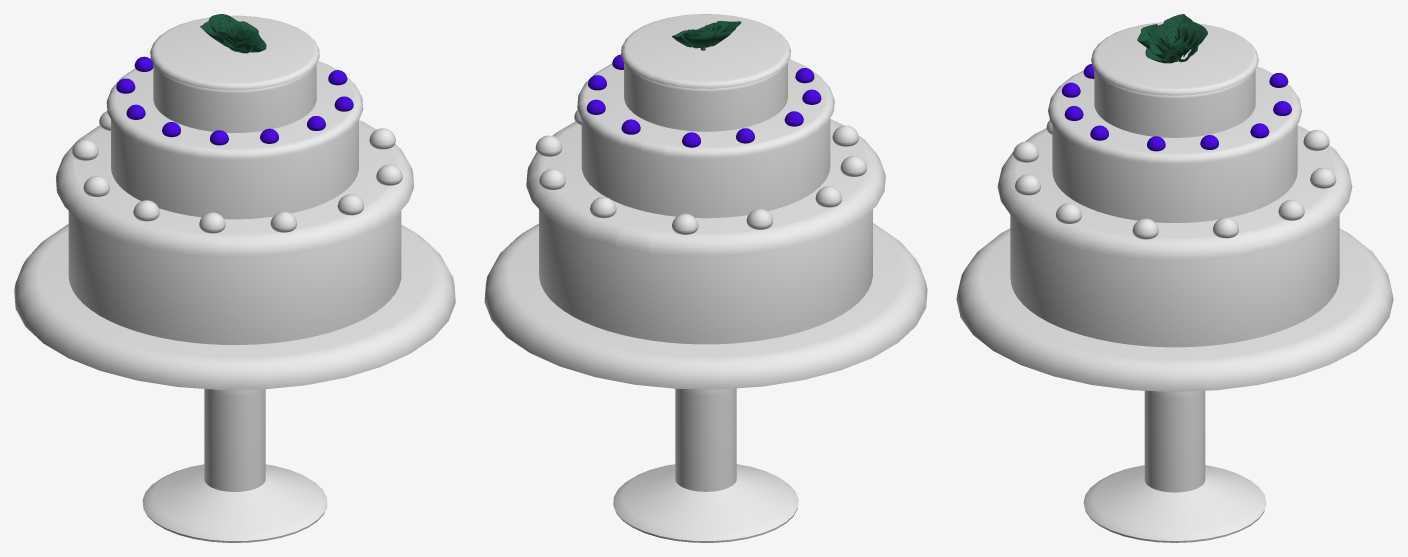
The model's file is tarta.fbx.
The picture shows the model from 3 angles, left to right: view 1: azimuth 30°, elevation 25°; view 2: azimuth 150°, elevation 25°; view 3: azimuth 270°, elevation 25°; orthographic projection.
Visible parts, largest first — view 1: Circle.001, Cylinder, icing, Cylinder.002, icing.001, icing.002, Cylinder.001, Sphere.003; view 2: Circle.001, Cylinder, icing, Cylinder.002, icing.001, icing.002, Cylinder.001, Sphere.003; view 3: Circle.001, Cylinder, icing, Cylinder.002, icing.001, icing.002, Cylinder.001, Sphere.003.
Part boxes in pixels (bbox=[...]): Circle.001: bbox=[14, 224, 455, 542]; Cylinder: bbox=[68, 210, 401, 344]; icing: bbox=[55, 120, 414, 258]; Cylinder.002: bbox=[111, 120, 358, 219]; icing.001: bbox=[106, 61, 363, 160]; icing.002: bbox=[150, 15, 319, 90]; Cylinder.001: bbox=[153, 64, 316, 132]; Sphere.003: bbox=[200, 14, 266, 53]; Circle.001: bbox=[484, 223, 927, 542]; Cylinder: bbox=[539, 209, 872, 344]; icing: bbox=[526, 119, 885, 257]; Cylinder.002: bbox=[581, 118, 830, 218]; icing.001: bbox=[577, 59, 834, 158]; icing.002: bbox=[621, 14, 790, 88]; Cylinder.001: bbox=[624, 62, 787, 131]; Sphere.003: bbox=[672, 20, 741, 50]; Circle.001: bbox=[956, 228, 1393, 542]; Cylinder: bbox=[1010, 215, 1339, 347]; icing: bbox=[997, 125, 1352, 261]; Cylinder.002: bbox=[1052, 125, 1297, 222]; icing.001: bbox=[1048, 66, 1301, 164]; icing.002: bbox=[1091, 22, 1258, 95]; Cylinder.001: bbox=[1094, 70, 1255, 137]; Sphere.003: bbox=[1137, 14, 1207, 63].
Bounding box in the file's own units: 704 × 849 × 704.
